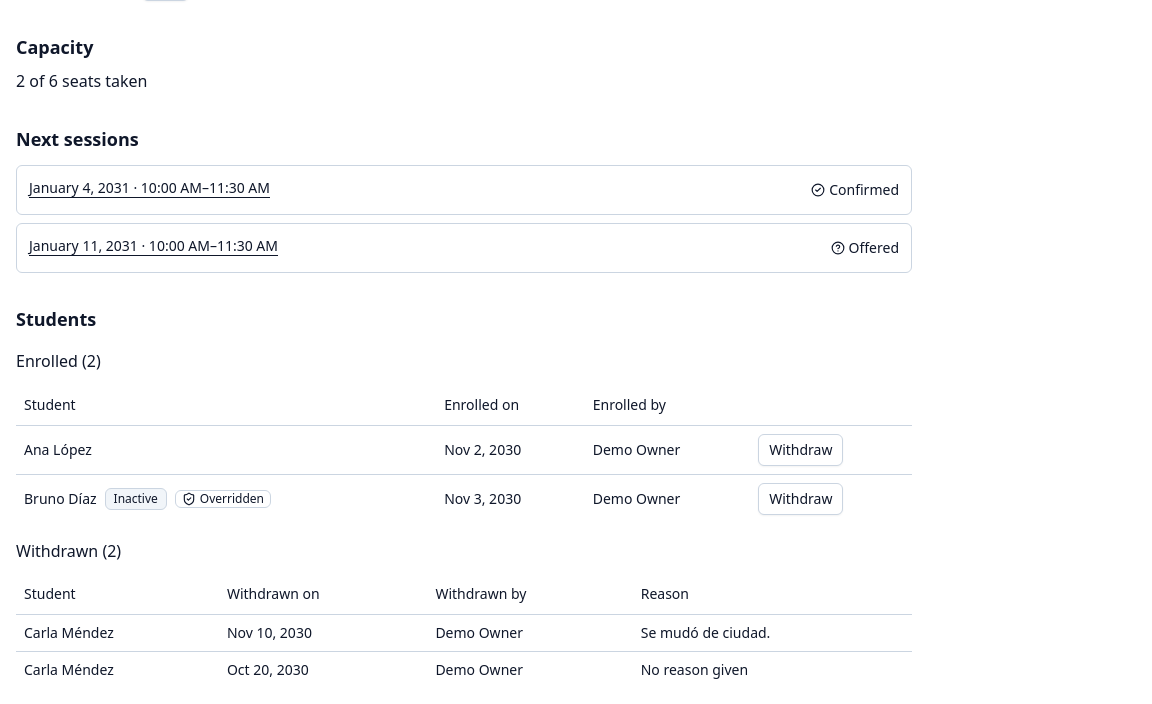
Test: the dialogs (D) › offers a reload after a withdrawal version conflict
(page scrolled)
Click the button "Withdraw" in the row of "Ana López": (801, 450) [758, 434, 844, 466]
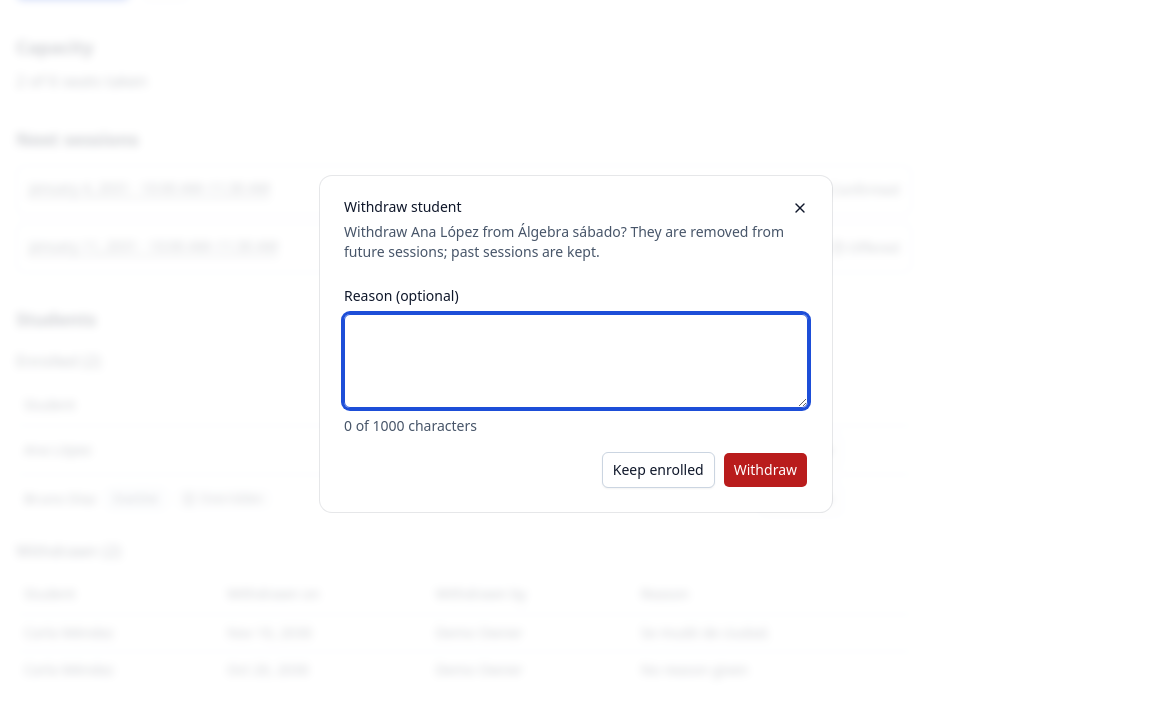
Click the button "Withdraw": (765, 470) [723, 452, 808, 488]
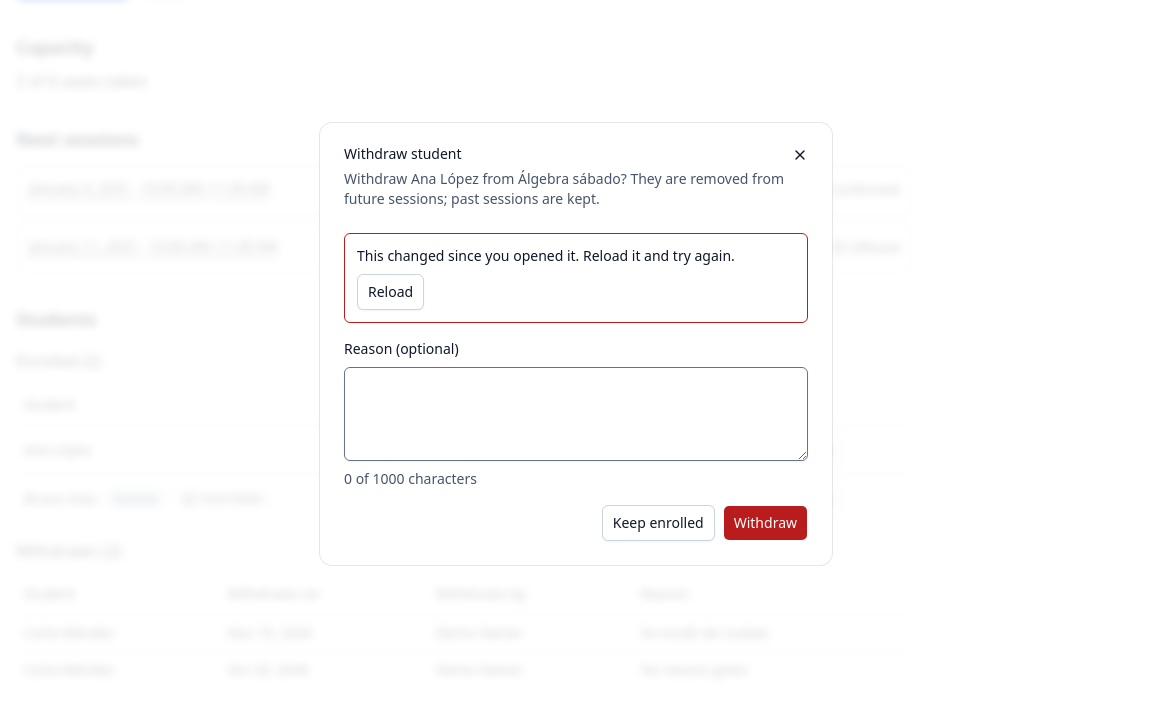
Check: the dialog shows "Reload", box [357, 274, 424, 310]
